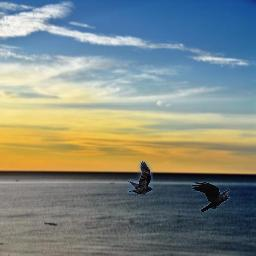Crow: (191, 181, 231, 212), (127, 161, 153, 194)
